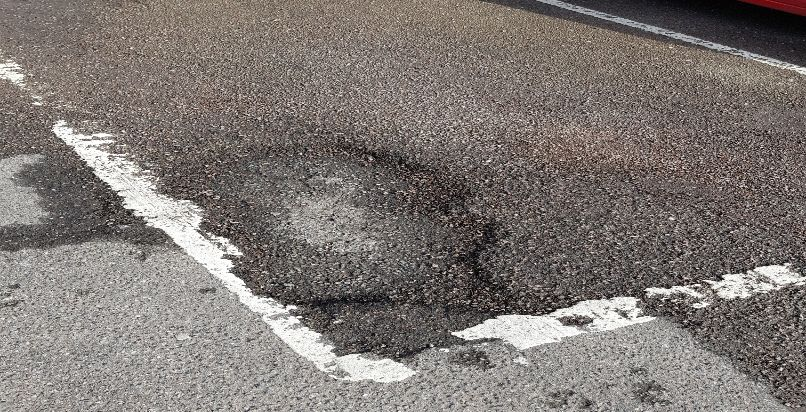pothole: (173, 134, 531, 325)
